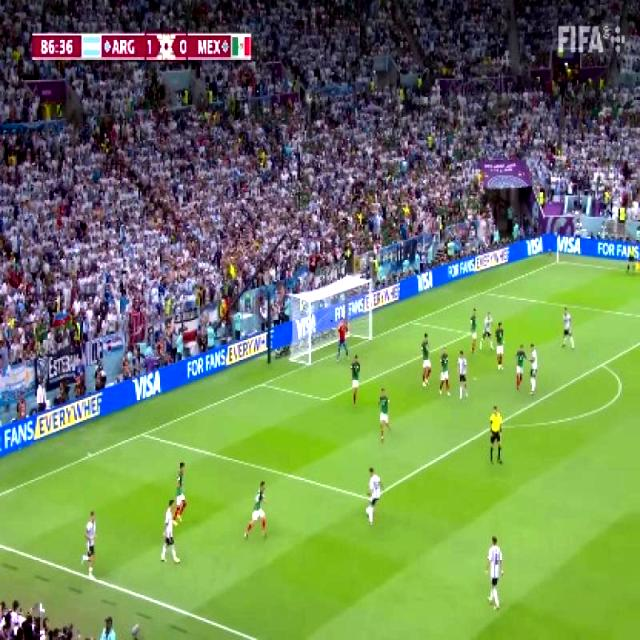bigarea_bottom_inner: (364, 490, 380, 509)
bigarea_bottom_outter: (134, 422, 152, 444)
bigarea_top_outter: (477, 284, 491, 298)
bottom_arc_area_intersection: (483, 419, 502, 437)
corner: (550, 255, 565, 268)
smallarea_bottom_inner: (316, 389, 334, 409)
smallarea_bottom_outter: (254, 374, 271, 392)
smallarea_top_inner: (461, 325, 476, 340)
smallarea_top_outter: (404, 312, 418, 330)
top_arc_area_intersection: (594, 356, 608, 372)
